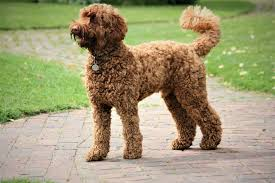Bulldog: (57, 5, 243, 168)
